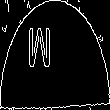M_S: (43, 29, 67, 81)
